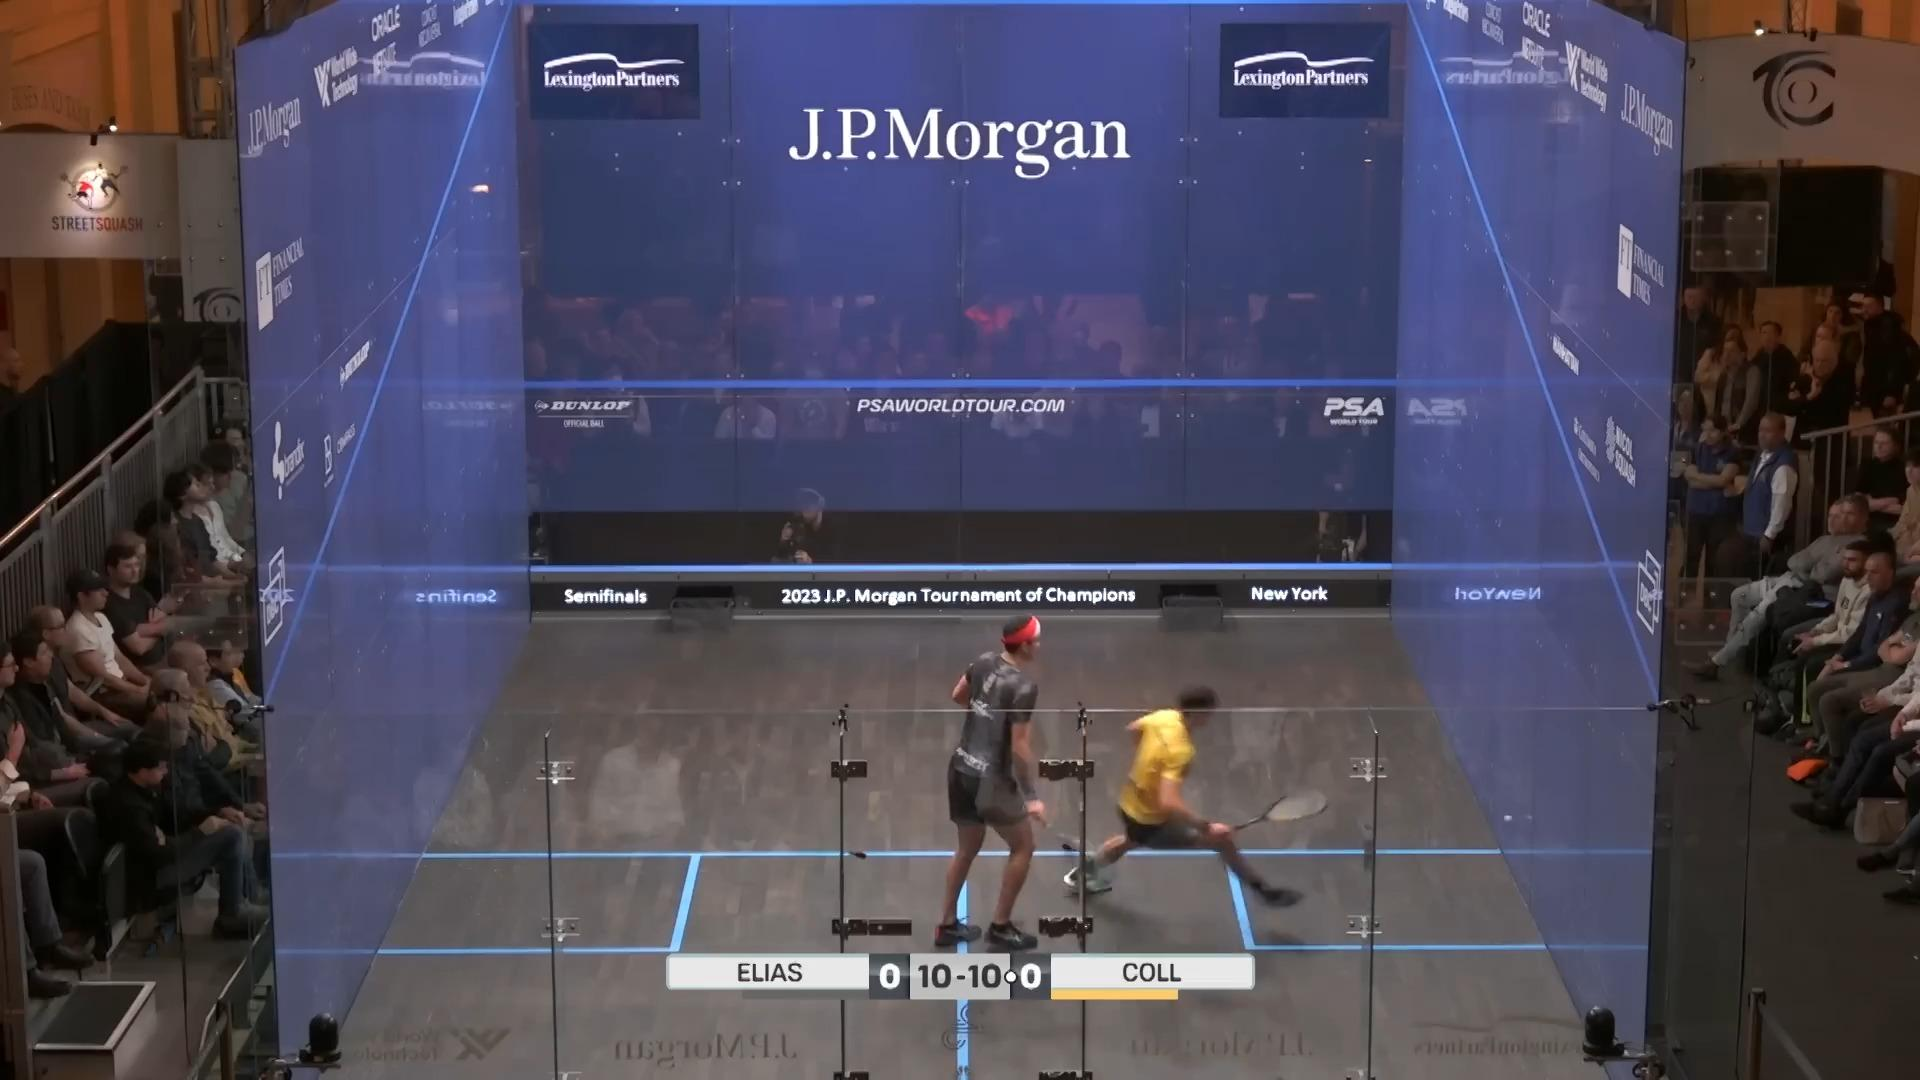Racket: (1240, 777, 1337, 833)
